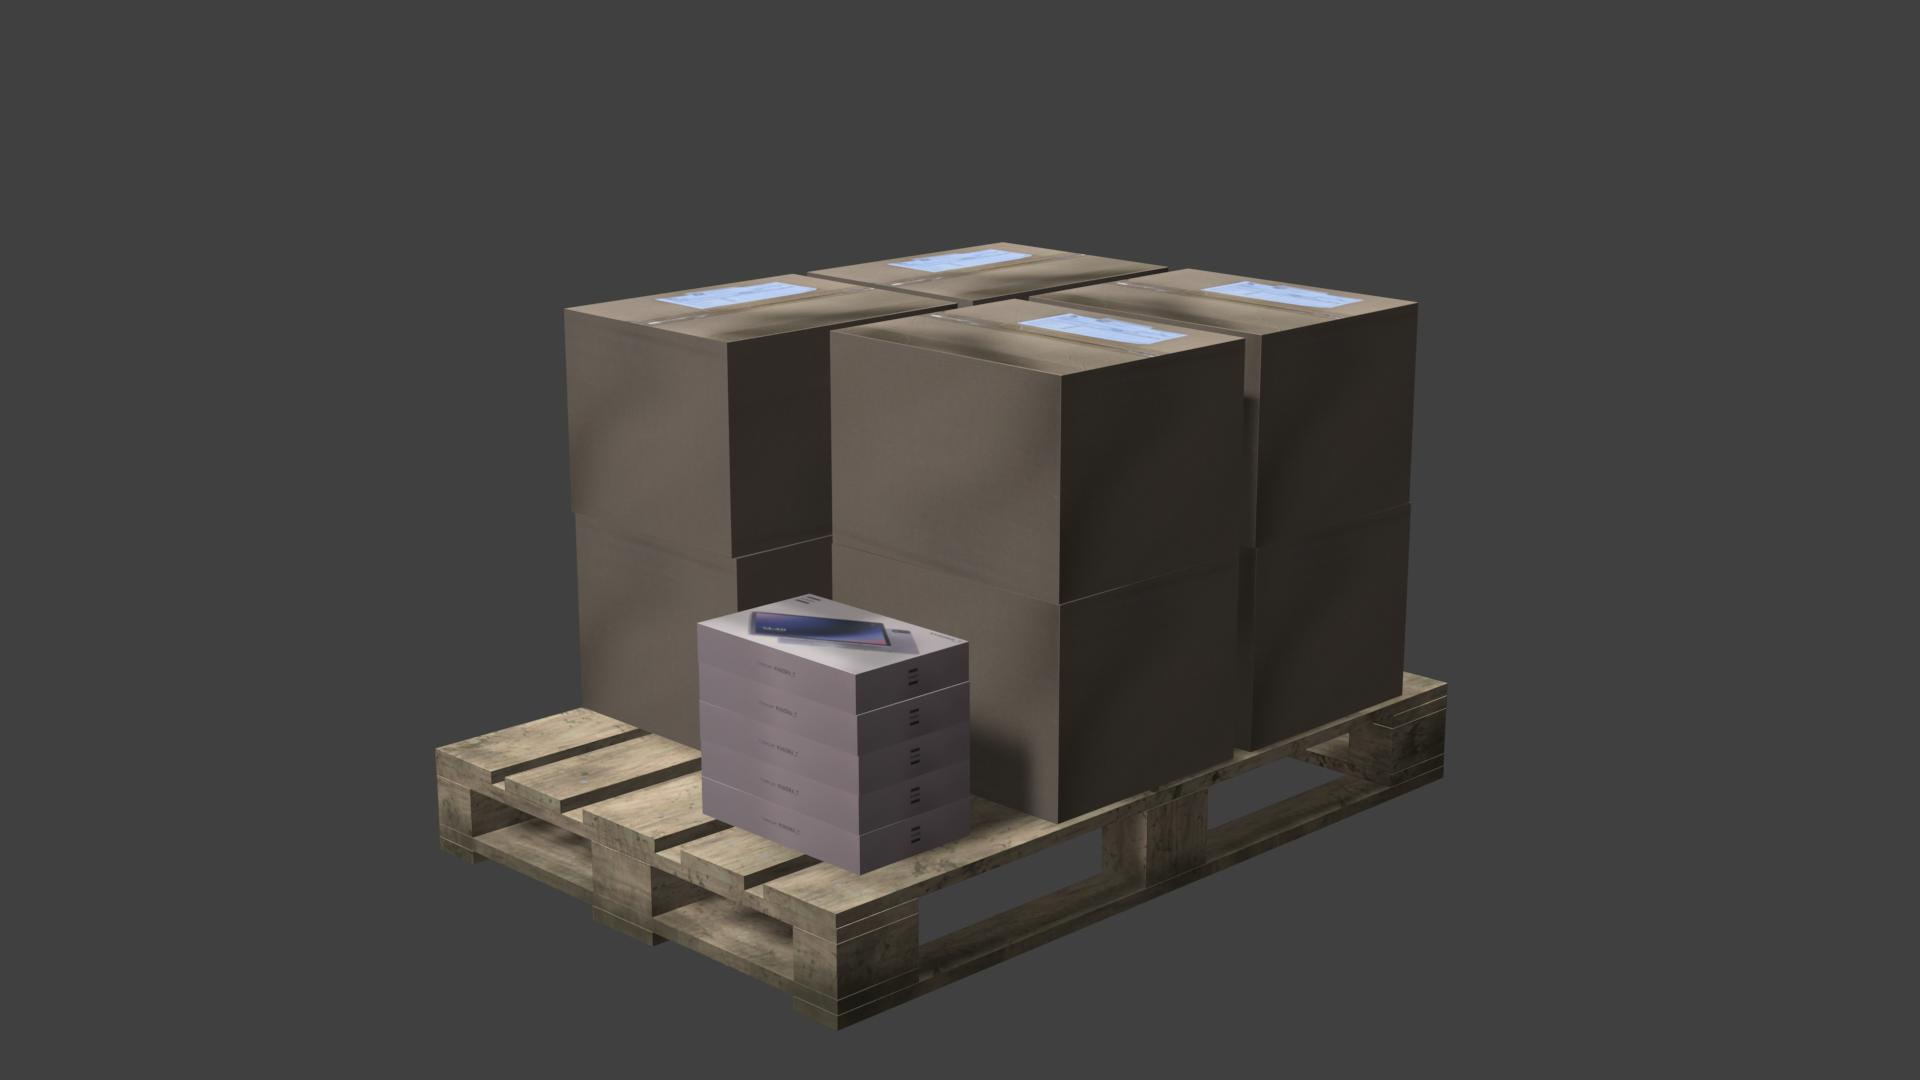group_box_left: (831, 331, 1245, 604), (833, 545, 1237, 824), (564, 310, 832, 558), (575, 514, 832, 752), (1241, 302, 1418, 549), (1236, 504, 1411, 750)
group_box_top: (832, 298, 1244, 376), (566, 273, 956, 343), (1030, 269, 1419, 336), (807, 241, 1167, 301)
palet: (435, 671, 1447, 1031)
tablet_left: (703, 778, 972, 876), (700, 703, 971, 796), (702, 742, 969, 836), (696, 624, 969, 715), (699, 665, 971, 756)
tablet_top: (698, 593, 968, 675)
